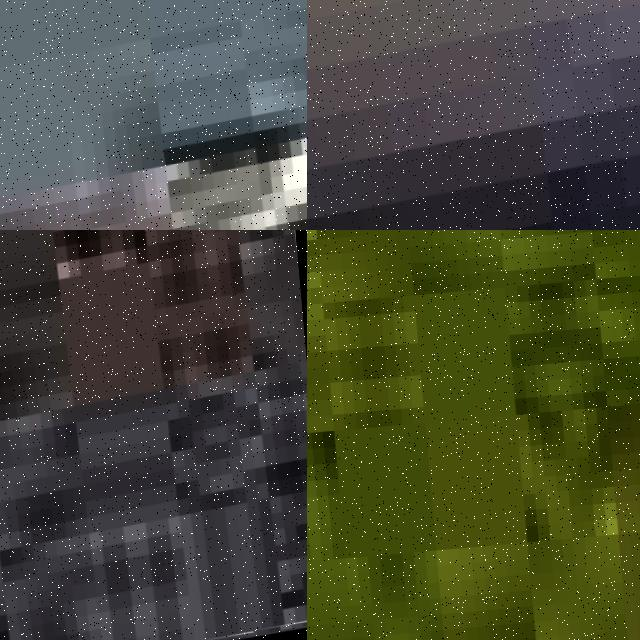0: (0, 230, 307, 640), (0, 0, 307, 230)
drone: (307, 0, 640, 230)
